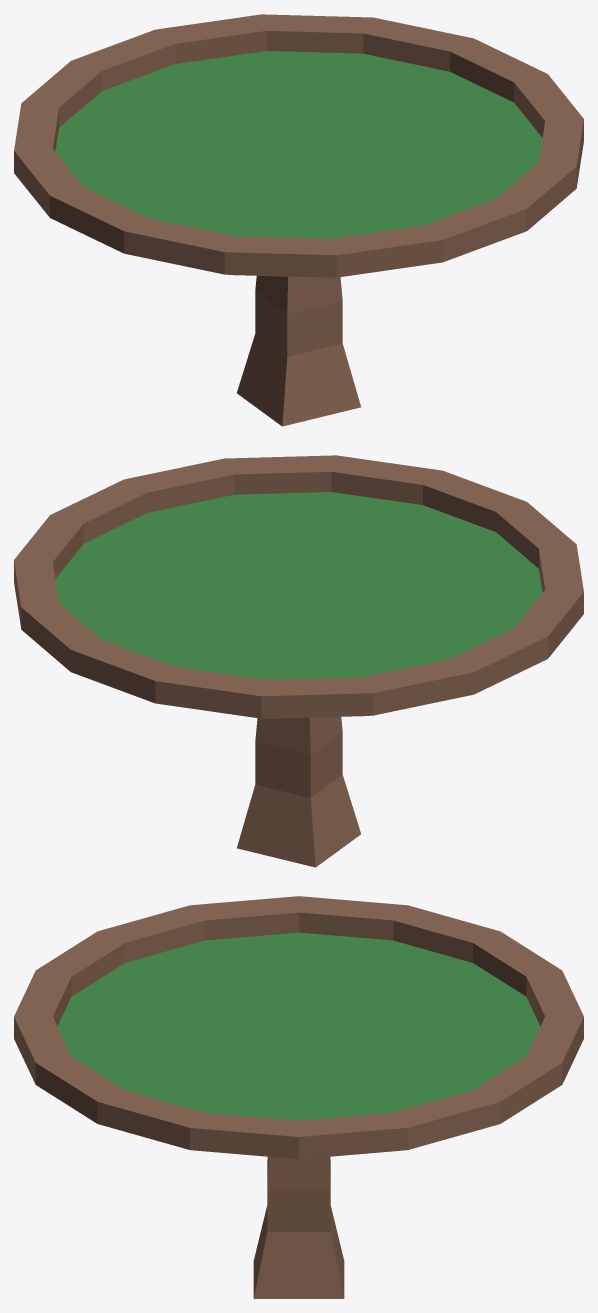
Rendered from PlayTable.fbx.
3 renders of one model, top to bottom at view 1: azimuth 30°, elevation 25°; view 2: azimuth 150°, elevation 25°; view 3: azimuth 270°, elevation 25°, orthographic.
Visible parts, largest first — view 1: Cylinder.001, Cube; view 2: Cylinder.001, Cube; view 3: Cylinder.001, Cube.
Boxes of the visible parts, x1,y1,x2,y2 form: Cylinder.001: (14,14,583,277); Cube: (237,275,360,426); Cylinder.001: (14,455,583,718); Cube: (237,716,360,867); Cylinder.001: (14,896,583,1159); Cube: (253,1156,344,1298).
Bounding box in the file's own units: 234 × 119 × 234.
